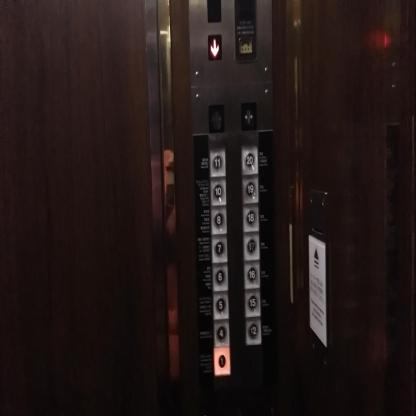1: (213, 346, 230, 376)
10: (209, 177, 226, 205)
11: (209, 147, 226, 177)
12: (245, 317, 261, 344)
15: (245, 288, 260, 316)
16: (244, 260, 260, 288)
17: (242, 231, 260, 260)
18: (242, 203, 259, 232)
19: (241, 174, 259, 202)
20: (241, 144, 258, 175)
4: (213, 319, 229, 346)
5: (212, 291, 229, 319)
6: (211, 263, 228, 292)
7: (211, 233, 227, 262)
8: (210, 205, 226, 233)
blur: (208, 103, 224, 134)
call: (239, 35, 253, 54)
close: (240, 101, 257, 130)
